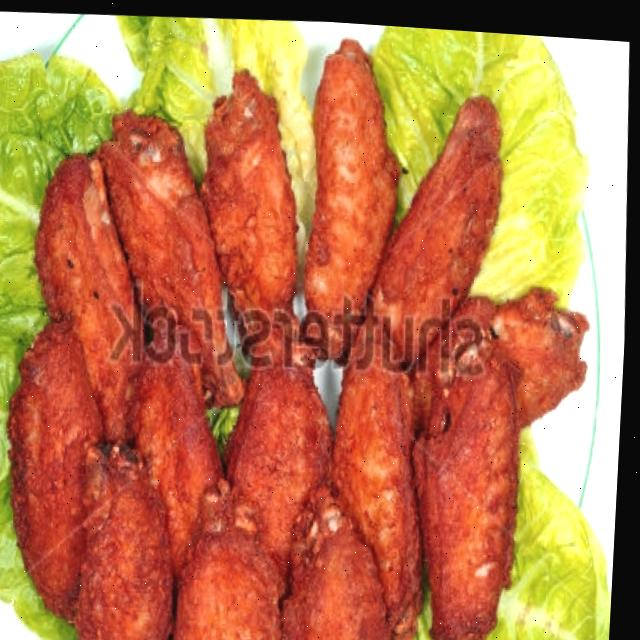鸡肉料理 含炸鸡: (0, 10, 620, 640)
